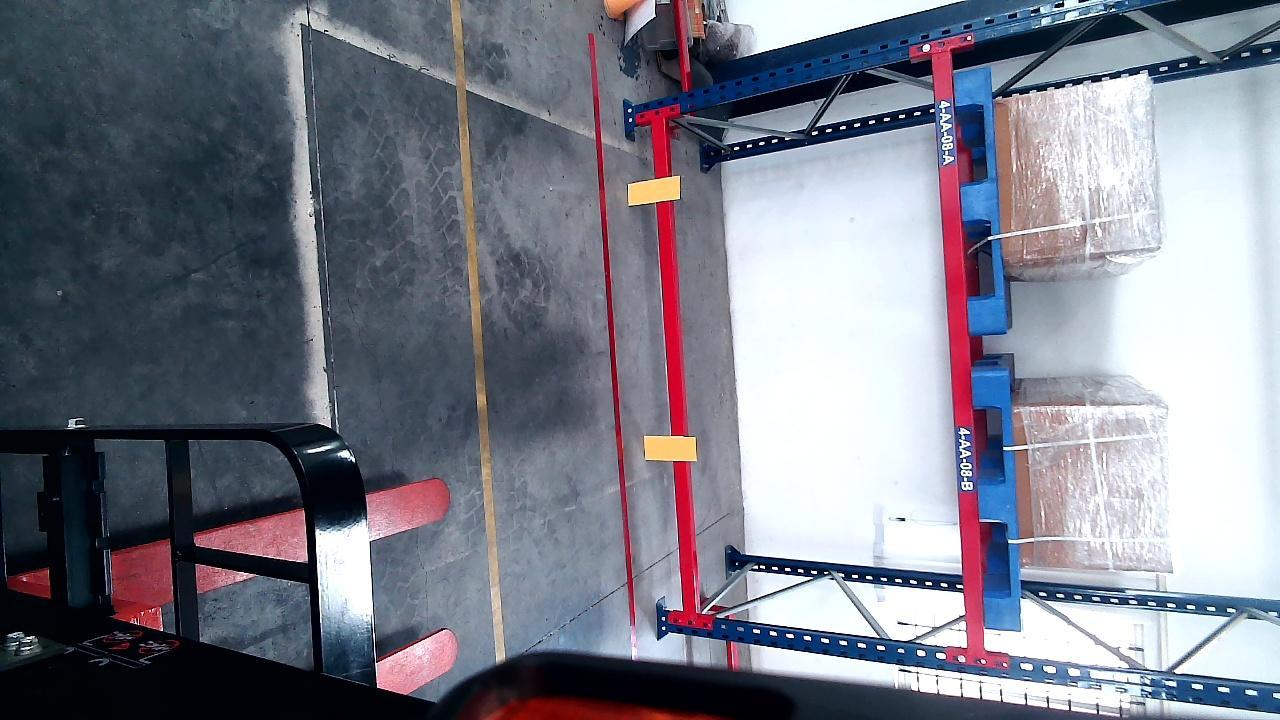red_line: (587, 32, 640, 654)
yellow_line: (451, 0, 507, 659)
